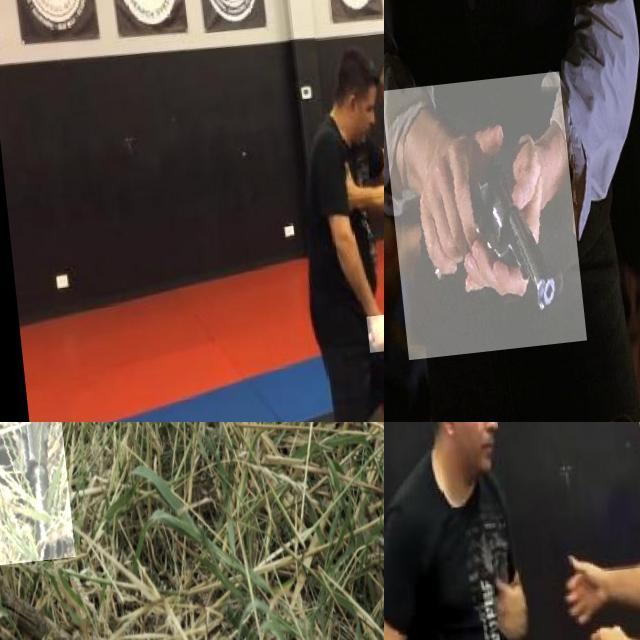-: (356, 321, 384, 360)
gun-knife-thesis - v11 Yolov5 augmented: (384, 79, 576, 364), (0, 422, 67, 571)
